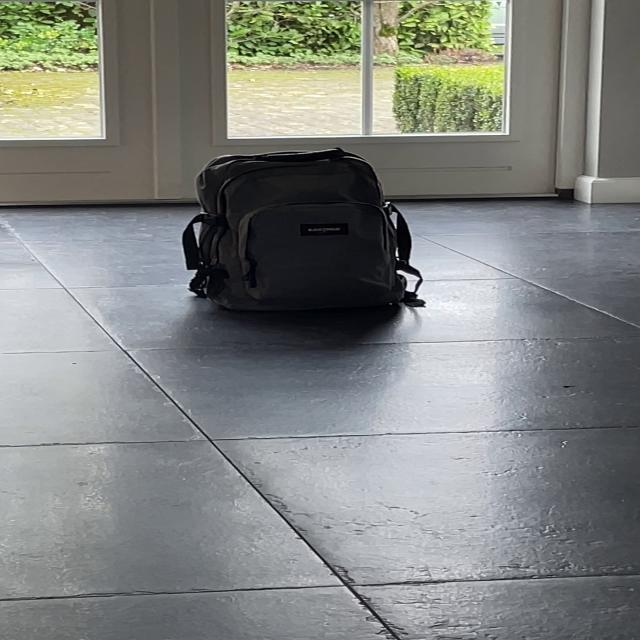backpack: (171, 140, 424, 324)
